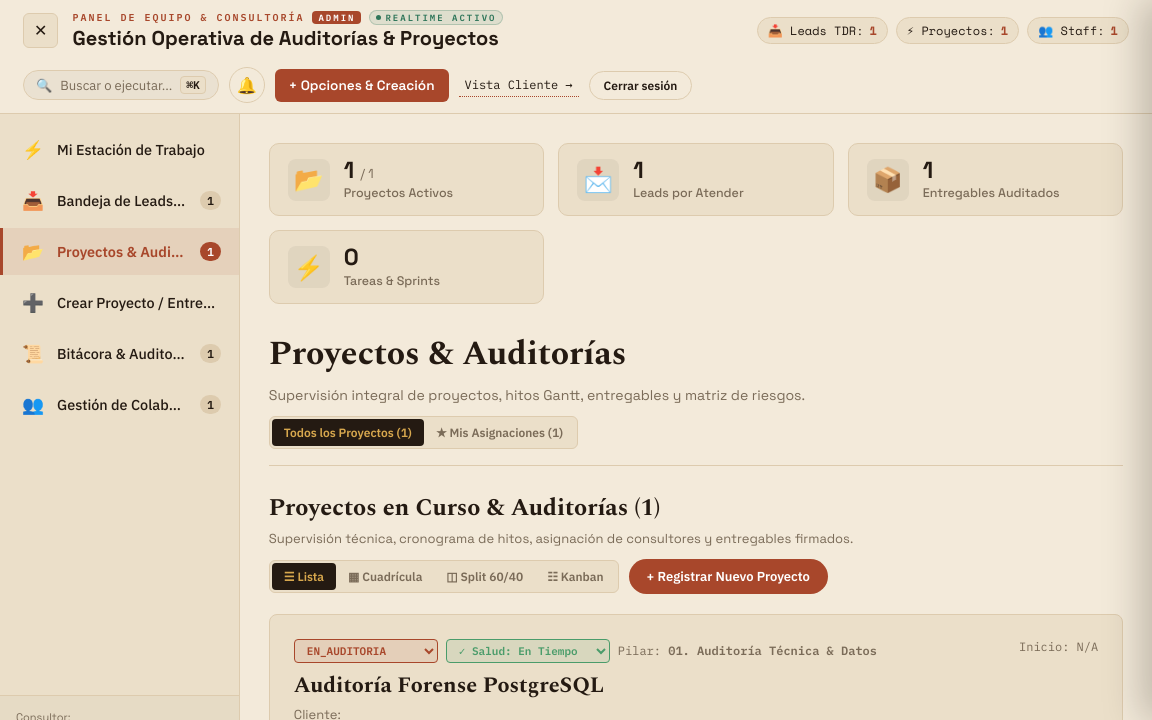
Test: Equipo Console Component › permite acceder a la matriz de hallazgos PM_FINDINGS desde el panel
The image size is (1152, 720).
# Switch to projects tab
Click the tab "📂 Proyectos & Auditorías 1": (120, 252) [0, 228, 239, 275]
(page scrolled)
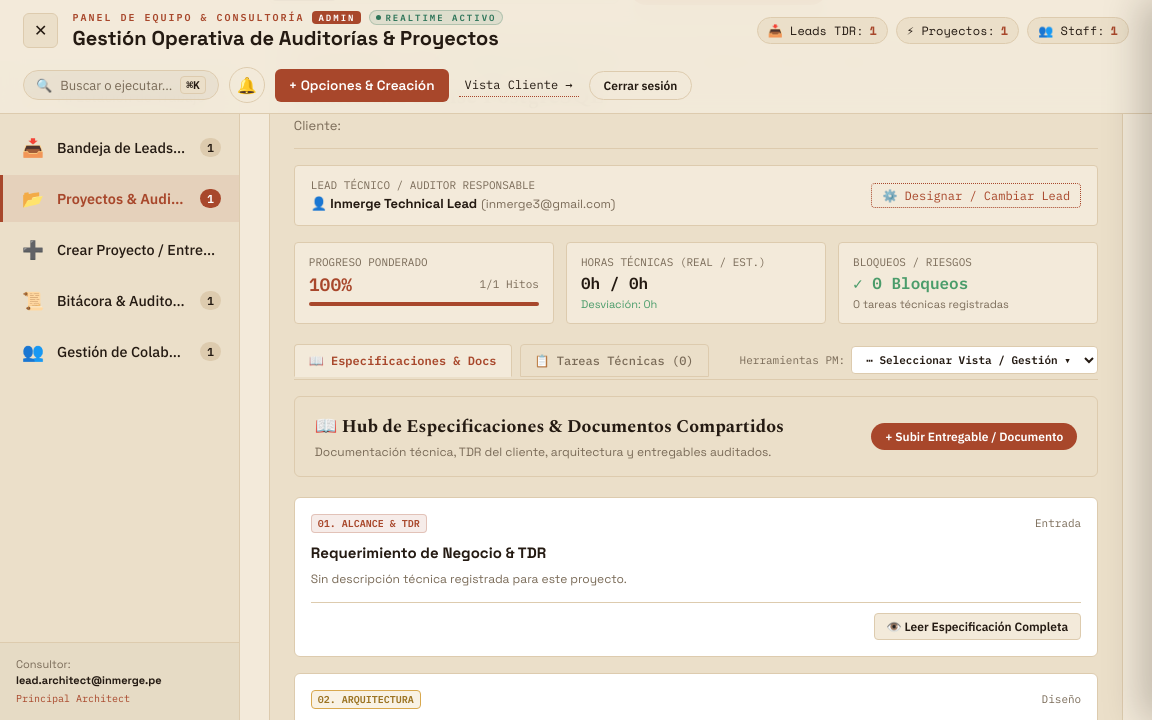
# Select PM_FINDINGS tool
Select "🔍 Hallazgos de Auditoría (0)" in the dropdown named "Seleccionar herramienta avanzada de proyecto": (975, 360) [851, 346, 1098, 374]
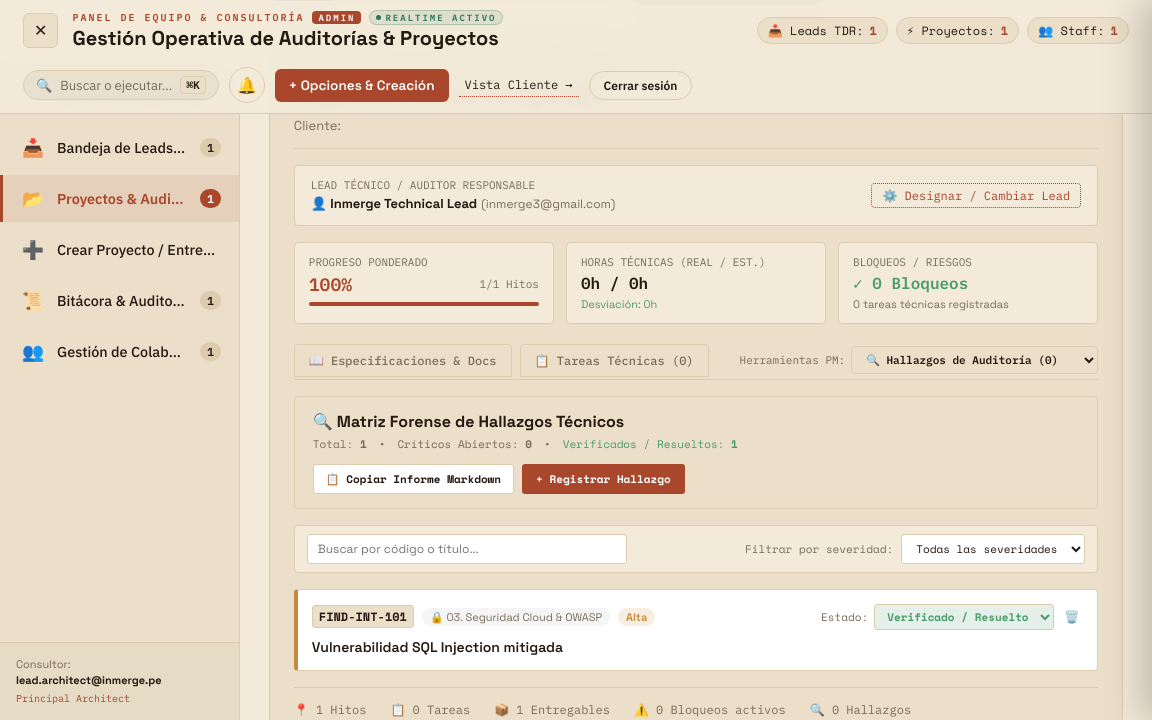
Now the text "FIND-INT-101" is shown, box [312, 605, 414, 628]
Now the text "Vulnerabilidad SQL Injection mitigada" is shown, box [312, 638, 563, 656]
Now the heading "🔍 Matriz Forense de Hallazgos Técnicos" is shown, box [313, 411, 624, 432]
